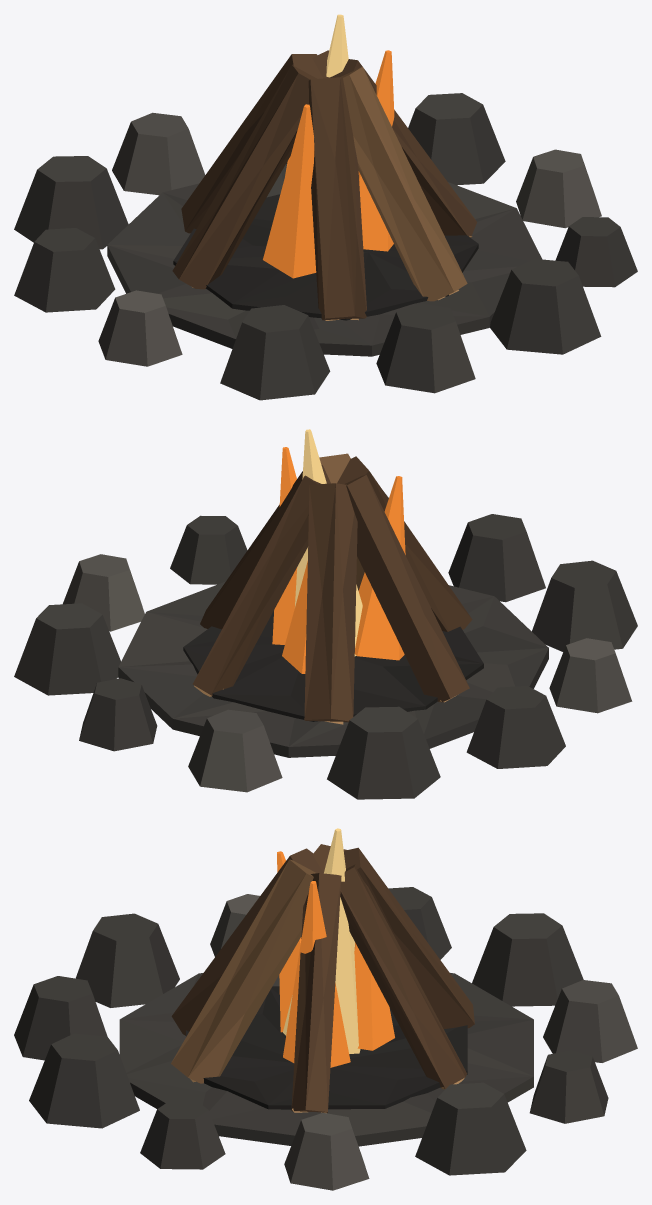
Rendered from campfire_s_kamnyami_idle.glb.
3 views of the same model, one above another, from view 1: azimuth 30°, elevation 25°; view 2: azimuth 150°, elevation 25°; view 3: azimuth 270°, elevation 25° (orthographic).
Parts seen in each view (by area): view 1: campfire_s_kamnyami_idle; view 2: campfire_s_kamnyami_idle; view 3: campfire_s_kamnyami_idle.
Boxes of the visible parts, left/top/right/bottom form: campfire_s_kamnyami_idle: left=14, top=14, right=637, bottom=400; campfire_s_kamnyami_idle: left=14, top=429, right=637, bottom=799; campfire_s_kamnyami_idle: left=14, top=828, right=637, bottom=1190.
Size of the model in its own units: 0.7614 by 0.3338 by 0.7732.
2 materials, 2 textured.
